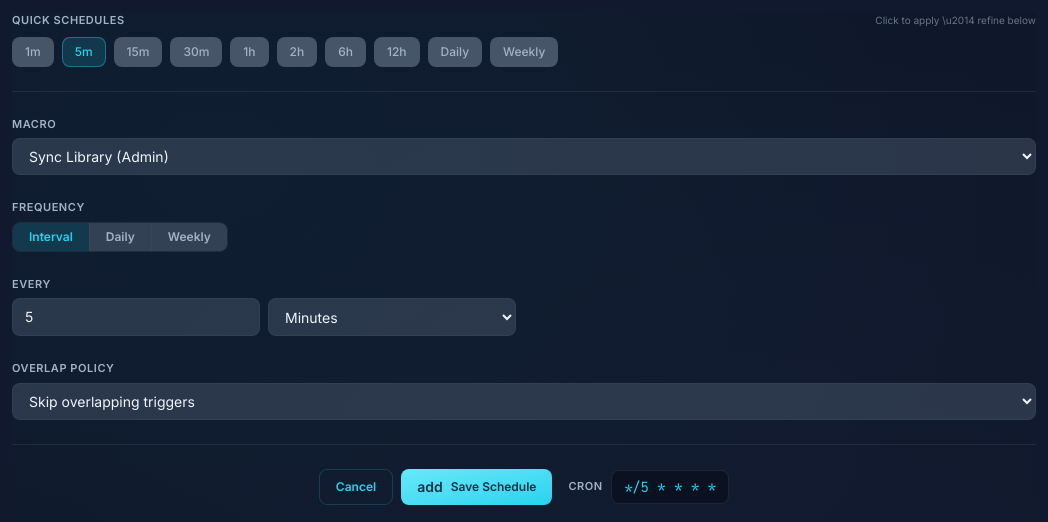
Test: NewScheduleForm — quick-pick presets › clicking '15m' sets every=15 minutes and the cron preview to */15 * * * *
Click the button "15m".
click(138, 52)  # box x1=114 y1=36 x2=162 y2=66
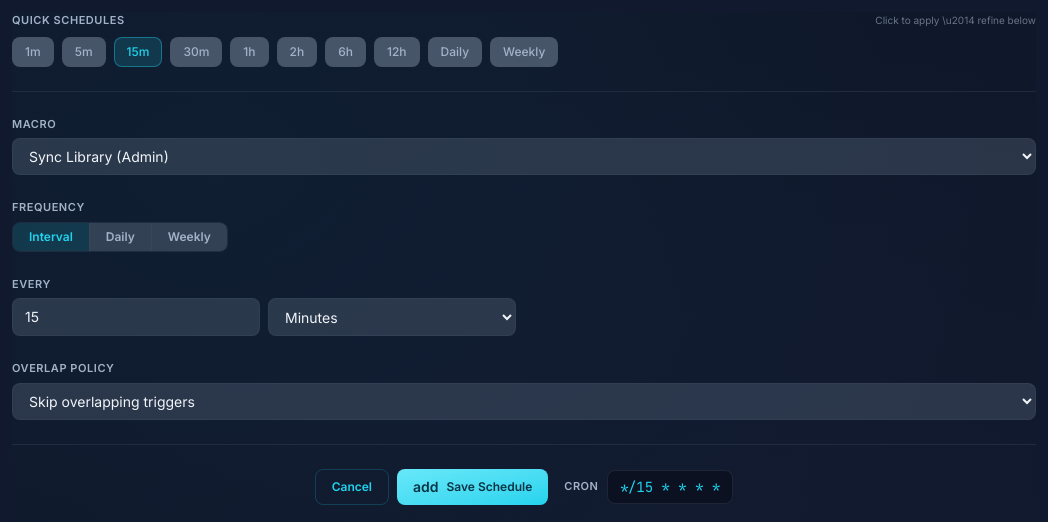
Expected: the number field labelled "Every" holds "15", x1=12 y1=298 x2=260 y2=336
Expected: the button "*/15 * * * *" is shown, x1=606 y1=470 x2=733 y2=504
